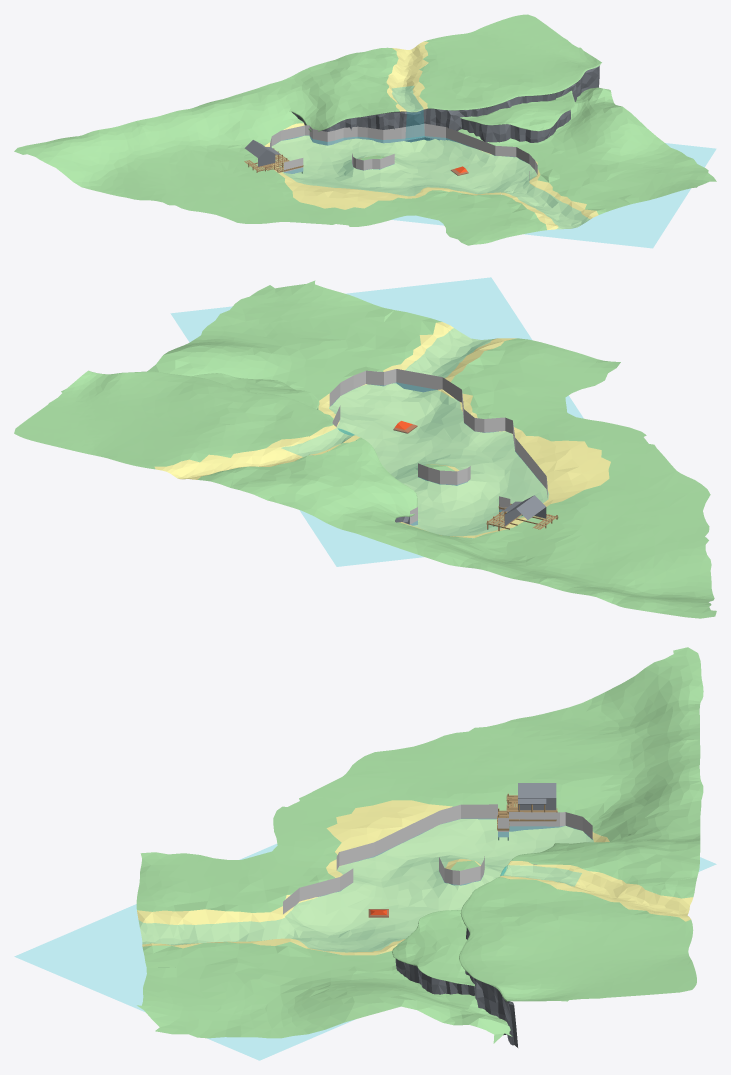
Rendered from lake_environment.glb.
3 renders of one model, top to bottom at view 1: azimuth 30°, elevation 25°; view 2: azimuth 150°, elevation 25°; view 3: azimuth 270°, elevation 25°, orthographic. The views are drawn at different scales.
Parts seen in each view (by area): view 1: land, lake, barrier, cliff_1, cliff_2, waterfall, house_body; view 2: land, lake, barrier, waterfall, house_body; view 3: land, lake, barrier, cliff_1, cliff_2, waterfall, house_body.
Part boxes in pixels (x1,y1,x2,y2): land: (14,14,716,245); lake: (272,135,715,247); barrier: (270,123,537,180); cliff_1: (292,66,599,142); cliff_2: (461,110,570,142); waterfall: (392,86,424,139); house_body: (244,140,275,166); land: (14,280,716,618); lake: (171,277,583,566); barrier: (329,369,547,525); waterfall: (282,428,354,456); house_body: (504,495,546,525); land: (136,647,703,1043); lake: (15,819,715,1060); barrier: (283,804,592,914); cliff_1: (465,864,536,1047); cliff_2: (395,959,472,995); waterfall: (500,865,581,886); house_body: (518,783,556,810).
Bounding box in the file's own units: 511 × 40.86 × 396.
